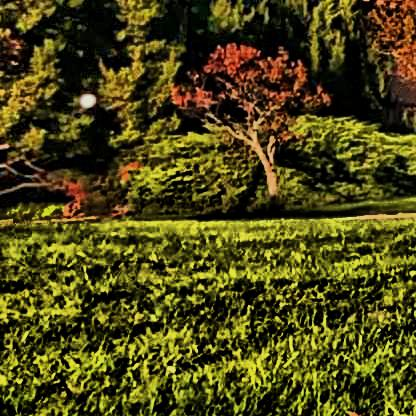golfball: (76, 91, 95, 106)
